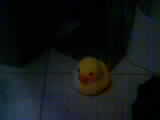duck: (71, 51, 106, 97)
